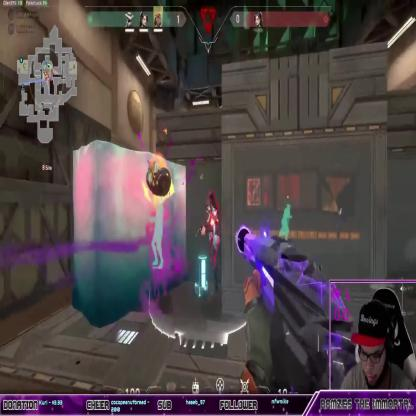enemy: (204, 194, 221, 289)
enemy_head: (206, 196, 213, 210)
